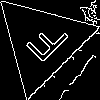F: (17, 17, 71, 72)
